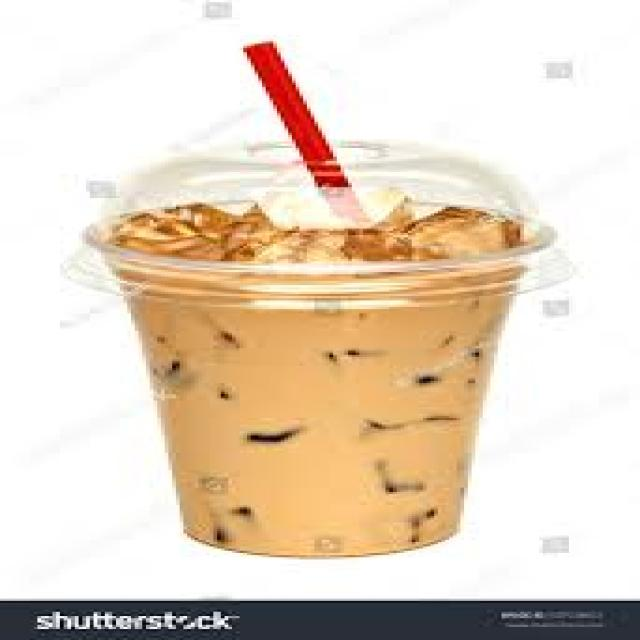bottle: (100, 244, 529, 556)
